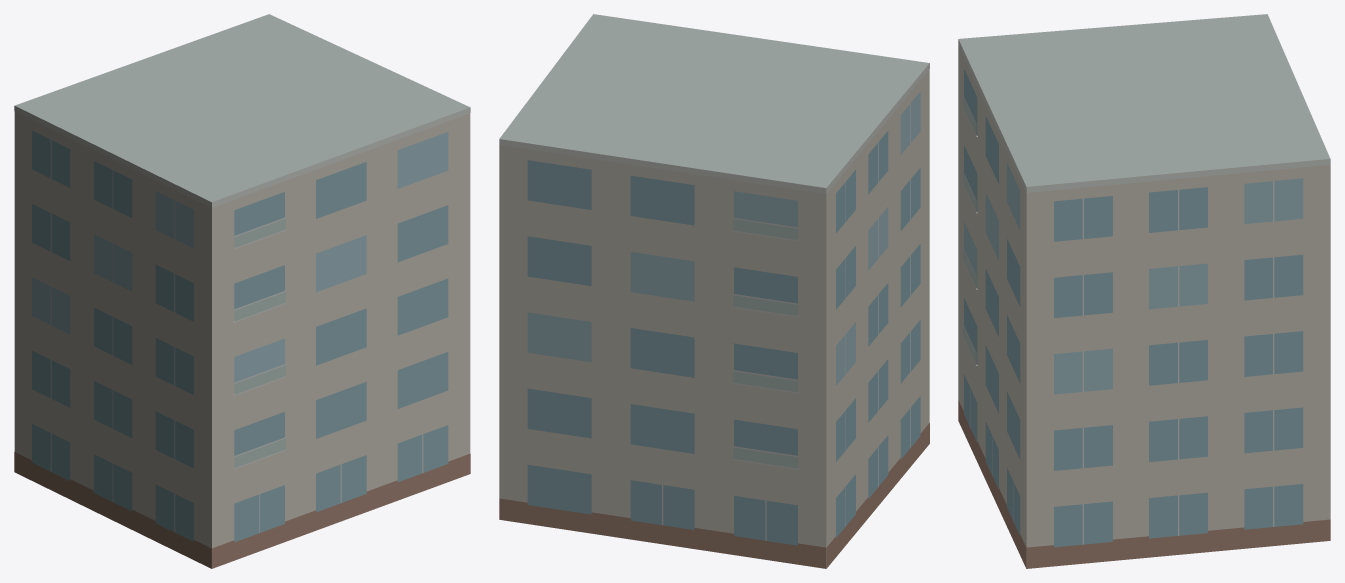
The model's file is survey-upis-32877032.glb.
The picture shows the model from 3 angles, left to right: view 1: azimuth 30°, elevation 25°; view 2: azimuth 150°, elevation 25°; view 3: azimuth 270°, elevation 25°; orthographic projection. The views are drawn at different scales.
Visible parts, largest first — view 1: survey-upis-32877032.tmp; view 2: survey-upis-32877032.tmp; view 3: survey-upis-32877032.tmp.
Part boxes in pixels (x1,y1,x2,y2): survey-upis-32877032.tmp: (14,14,470,568); survey-upis-32877032.tmp: (499,14,929,568); survey-upis-32877032.tmp: (958,14,1330,568).
Size of the model in its own units: 15.21 by 15.65 by 13.83.
